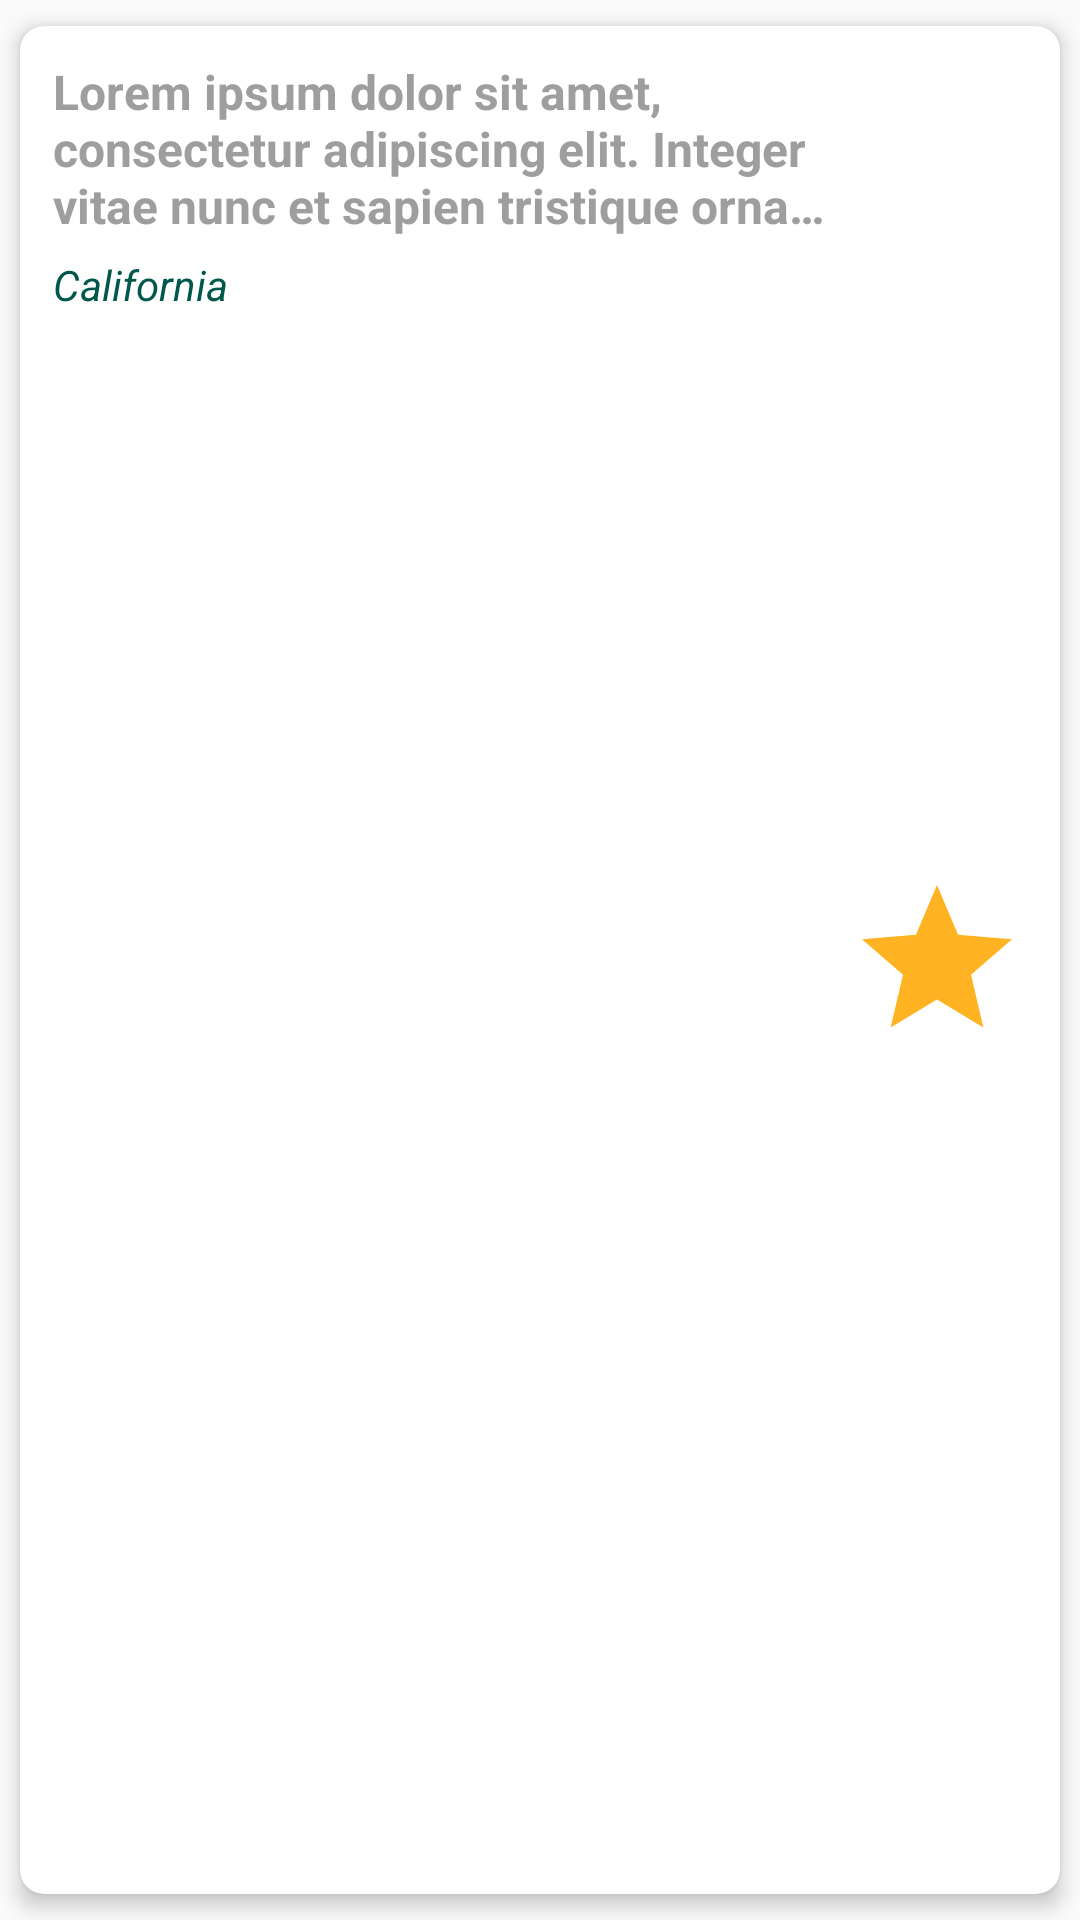

Icons on this 1080 × 1920 Android screen, each with the point to tap as (x,y):
star favourites: (937,956)
